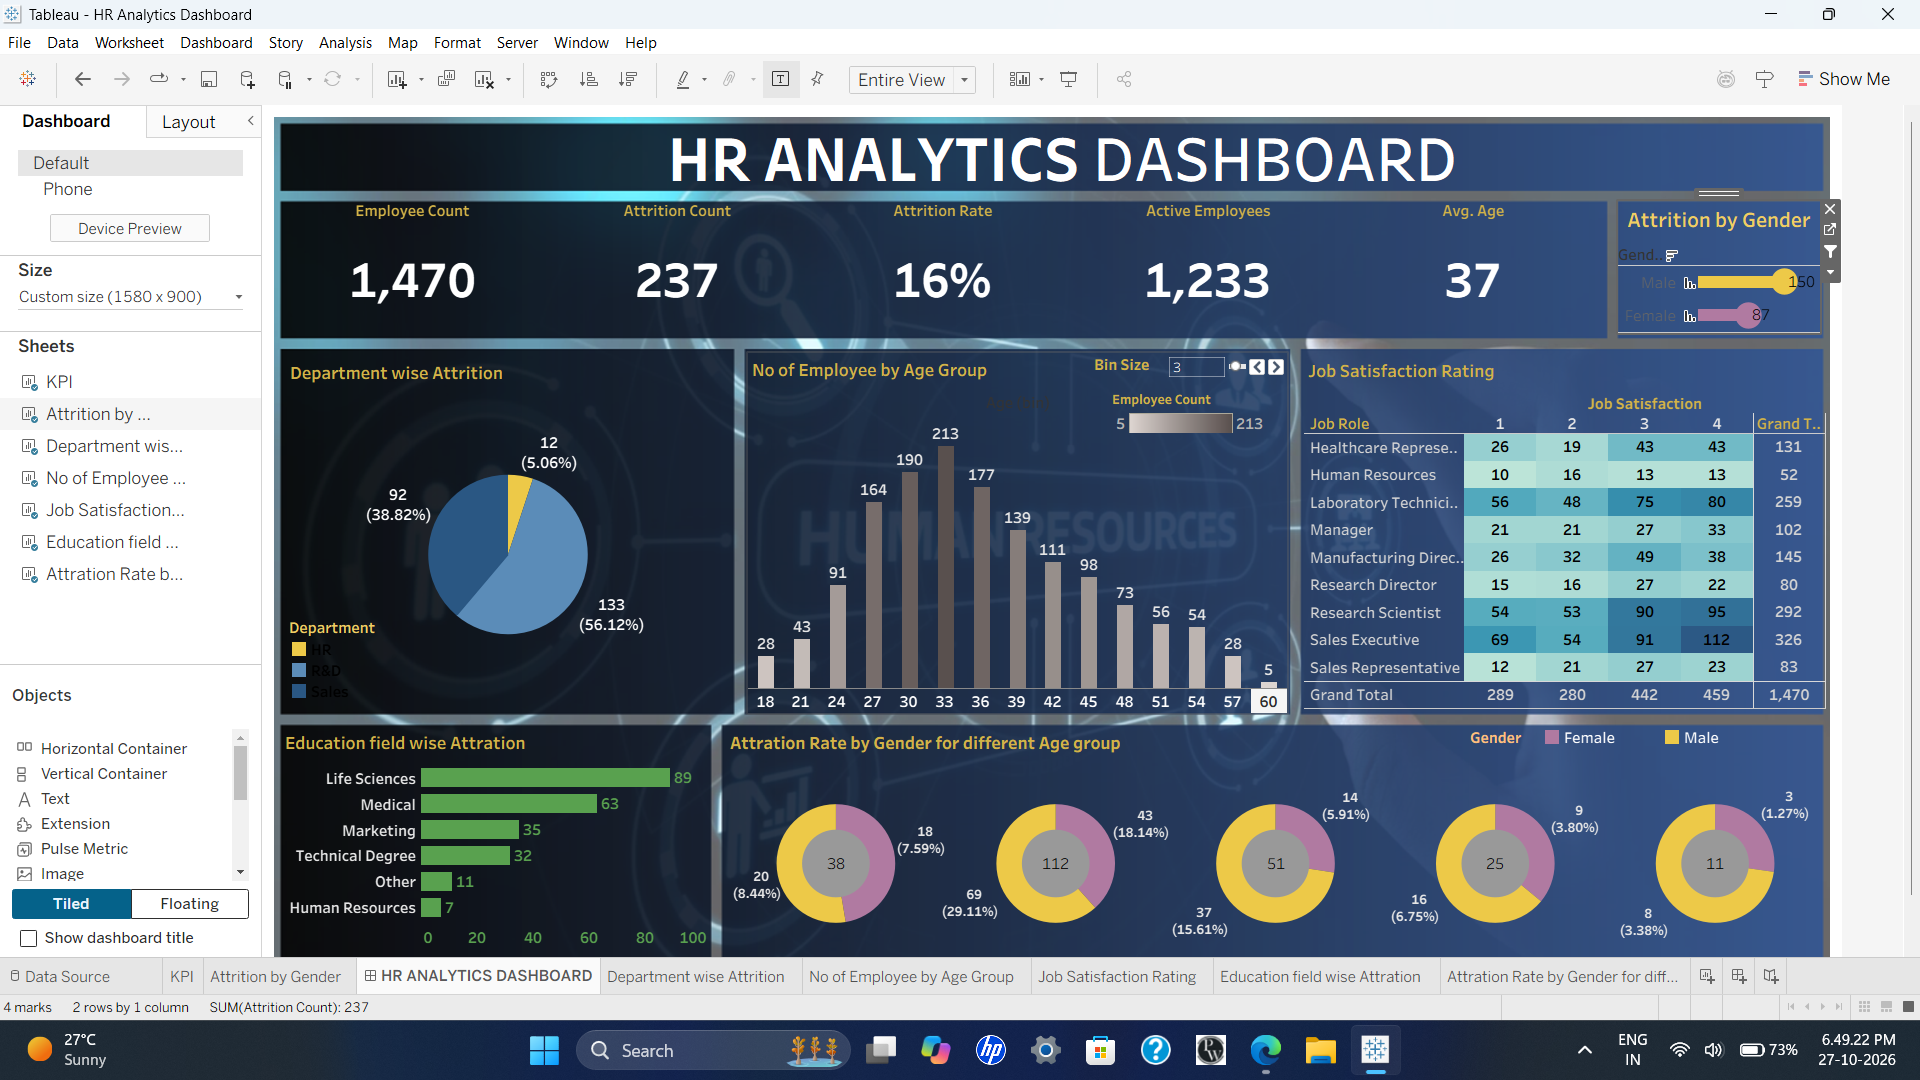

The page's visual inventory and layout, read from the dashboard file:
{"tool":"tableau","page":{"name":"HR ANALYTICS DASHBOARD","canvas":[1580,900],"ordinal":0},"visuals":[{"type":"image","param":"Image/HR background.pptx.png","box":[8,8,1564,884]},{"type":"text","box":[37,18,1527,68]},{"type":"worksheet","title":"KPI","mark":"Automatic","box":[18,95,1326,137]},{"type":"worksheet","title":"Attrition by Gender","mark":"Automatic","rows":["Gender"],"cols":["Calculation_0495664840609792","Calculation_0495664840609792"],"box":[1356,96,202,132]},{"type":"worksheet","title":"No of Employee by Age Group","mark":"Automatic","rows":["Employee Count"],"cols":["Age (bin)"],"box":[486,248,539,360]},{"type":"parameter","param":"[Parameters].[Parameter 0713643241934848]","box":[832,249,193,33]},{"type":"worksheet","title":"Job Satisfaction Rating","mark":"Square","rows":["Job Role"],"cols":["Job Satisfaction"],"box":[1042,249,522,355]},{"type":"worksheet","title":"Department wise Attrition","mark":"Pie","box":[24,251,444,358]},{"type":"legend","title":"No of Employee by Age Group","param":"[federated.0qwmn6719t33i115bj2v50vumqmi].[sum:Employee Count:qk]","box":[850,285,156,43]},{"type":"legend","title":"Department wise Attrition","param":"[federated.0qwmn6719t33i115bj2v50vumqmi].[none:Department:nk]","box":[27,512,103,89]},{"type":"worksheet","title":"Education field wise Attration","mark":"Automatic","rows":["Education Field"],"cols":["Calculation_0495664840609792"],"box":[19,621,428,257]},{"type":"worksheet","title":"Attration Rate by Gender for different Age group","mark":"Pie","rows":["Calculation_0713643268321287","Calculation_0713643268321287"],"cols":["CF_age band"],"box":[464,622,1099,260]},{"type":"legend","title":"Attration Rate by Gender for different Age group","param":"[federated.0qwmn6719t33i115bj2v50vumqmi].[none:Gender:nk]","box":[1208,622,343,33]}]}

Visuals, with their boxes on the page's 1580x900 design canvas (x1, y1, x2, y2). These are canvas units, not pixel positions in the 1920x1080 screenshot, which may show the page scaled, cropped or inside an application window:
image: [8, 8, 1572, 892]
text: [37, 18, 1564, 86]
"KPI" worksheet: [18, 95, 1344, 232]
"Attrition by Gender" worksheet: [1356, 96, 1558, 228]
"No of Employee by Age Group" worksheet: [486, 248, 1025, 608]
parameter: [832, 249, 1025, 282]
"Job Satisfaction Rating" worksheet (Square marks): [1042, 249, 1564, 604]
"Department wise Attrition" worksheet (Pie marks): [24, 251, 468, 609]
"No of Employee by Age Group" legend: [850, 285, 1006, 328]
"Department wise Attrition" legend: [27, 512, 130, 601]
"Education field wise Attration" worksheet: [19, 621, 447, 878]
"Attration Rate by Gender for different Age group" worksheet (Pie marks): [464, 622, 1563, 882]
"Attration Rate by Gender for different Age group" legend: [1208, 622, 1551, 655]
